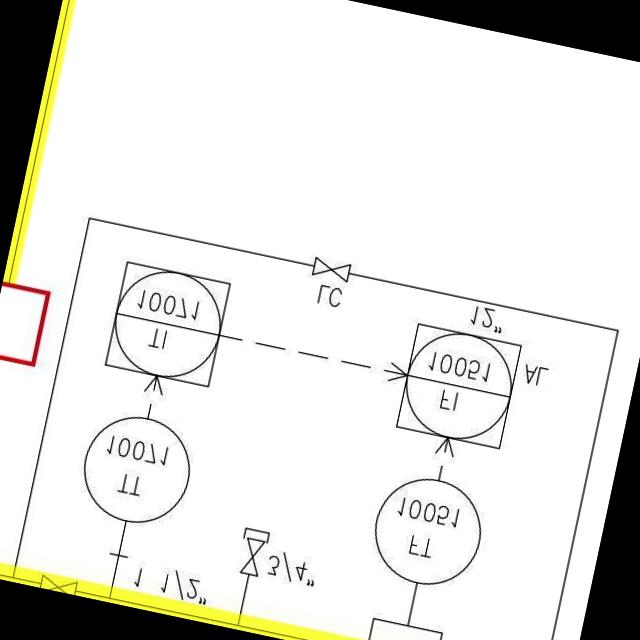GV: (226, 520, 274, 597), (307, 252, 355, 285), (236, 531, 266, 581), (33, 568, 82, 596)
